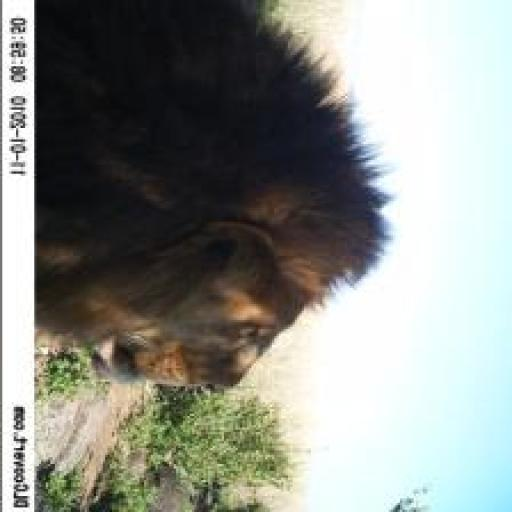lion: (41, 2, 404, 408)
